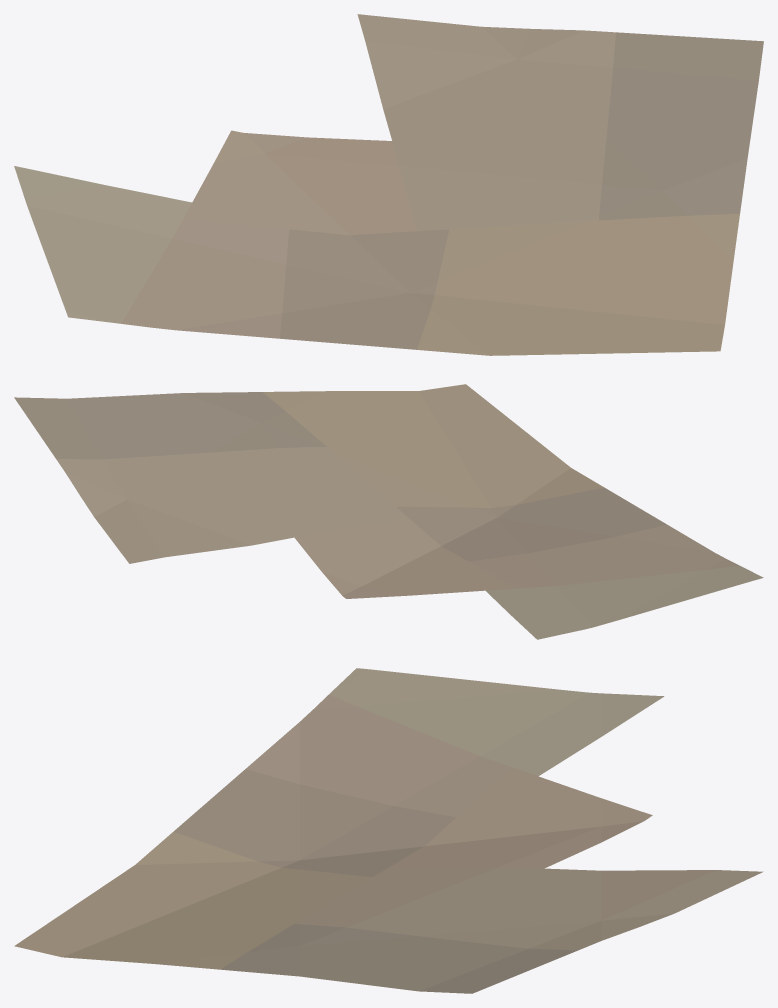
File: farm_-20_-21_soil.glb
3 views of the same model, one above another, from view 1: azimuth 30°, elevation 25°; view 2: azimuth 150°, elevation 25°; view 3: azimuth 270°, elevation 25° (orthographic). The views are drawn at different scales.
Parts seen in each view (by area): view 1: geometry_0; view 2: geometry_0; view 3: geometry_0.
Boxes of the visible parts, bbox=[...] form: geometry_0: bbox=[14, 14, 763, 355]; geometry_0: bbox=[14, 384, 763, 639]; geometry_0: bbox=[14, 668, 763, 993].
Bounding box in the file's own units: 238 × 26.82 × 199.
